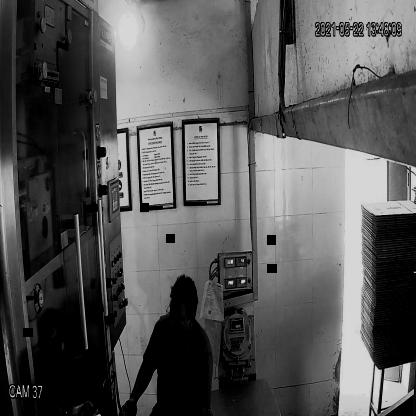goggles: (164, 305, 195, 328)
